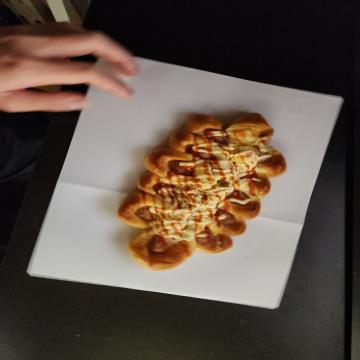pizza_bread: (112, 72, 271, 244)
